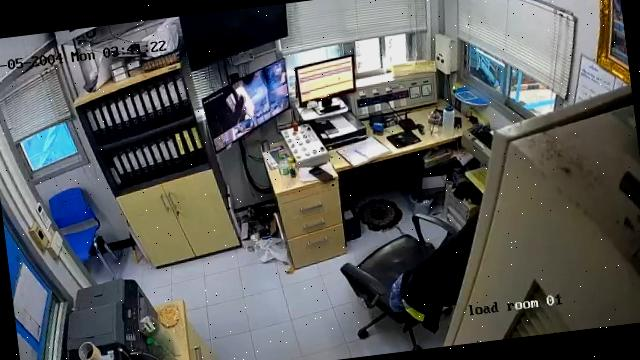Phone: (307, 165, 335, 182)
